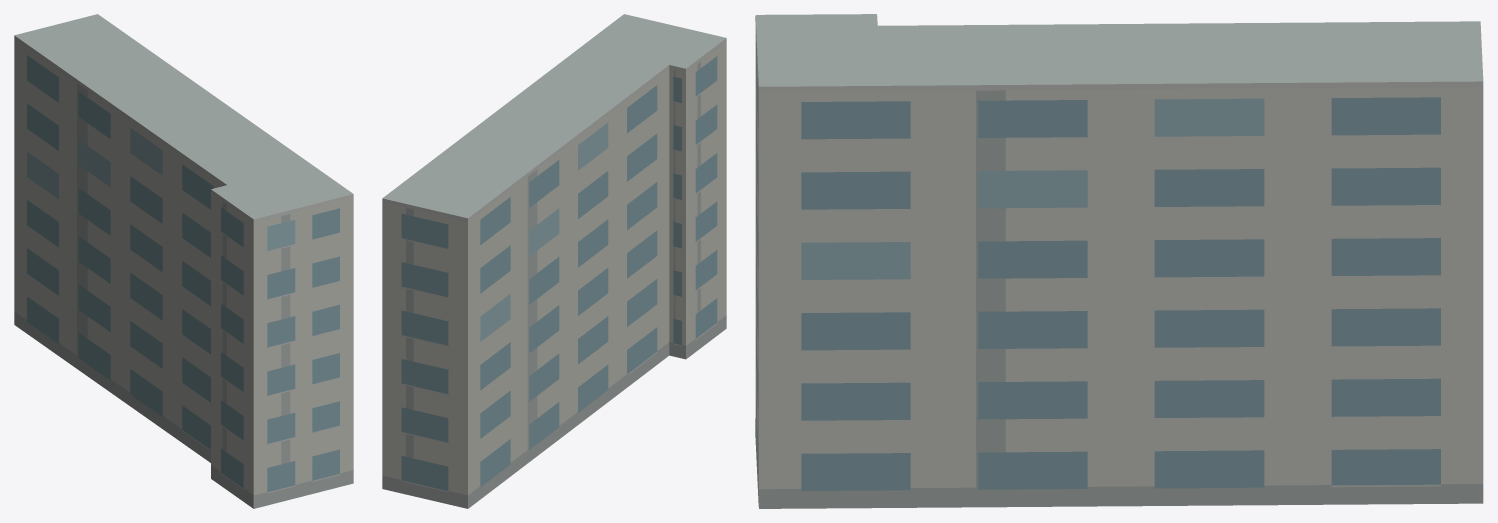
File: survey-upis-32577240.glb
The picture shows the model from 3 angles, left to right: view 1: azimuth 30°, elevation 25°; view 2: azimuth 150°, elevation 25°; view 3: azimuth 270°, elevation 25°; orthographic projection. The views are drawn at different scales.
Visible parts, largest first — view 1: survey-upis-32577240.tmp; view 2: survey-upis-32577240.tmp; view 3: survey-upis-32577240.tmp.
Boxes of the visible parts, x1,y1,x2,y2 form: survey-upis-32577240.tmp: (14,14,353,508); survey-upis-32577240.tmp: (382,14,726,508); survey-upis-32577240.tmp: (755,14,1483,508).
Size of the model in its own units: 6.96 by 18.8 by 29.39.
